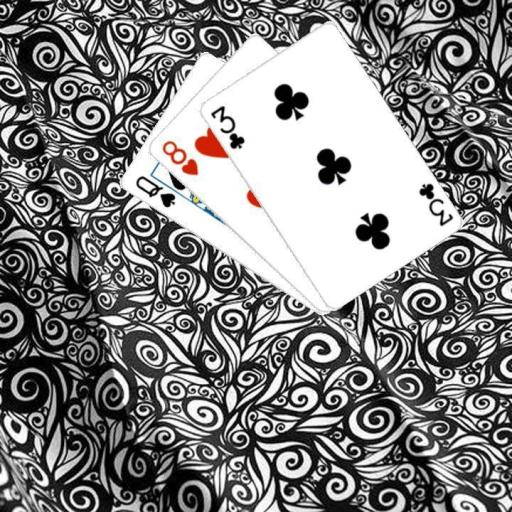card-corner: (414, 179, 454, 228), (207, 102, 246, 150), (132, 172, 177, 210), (158, 137, 199, 178)
